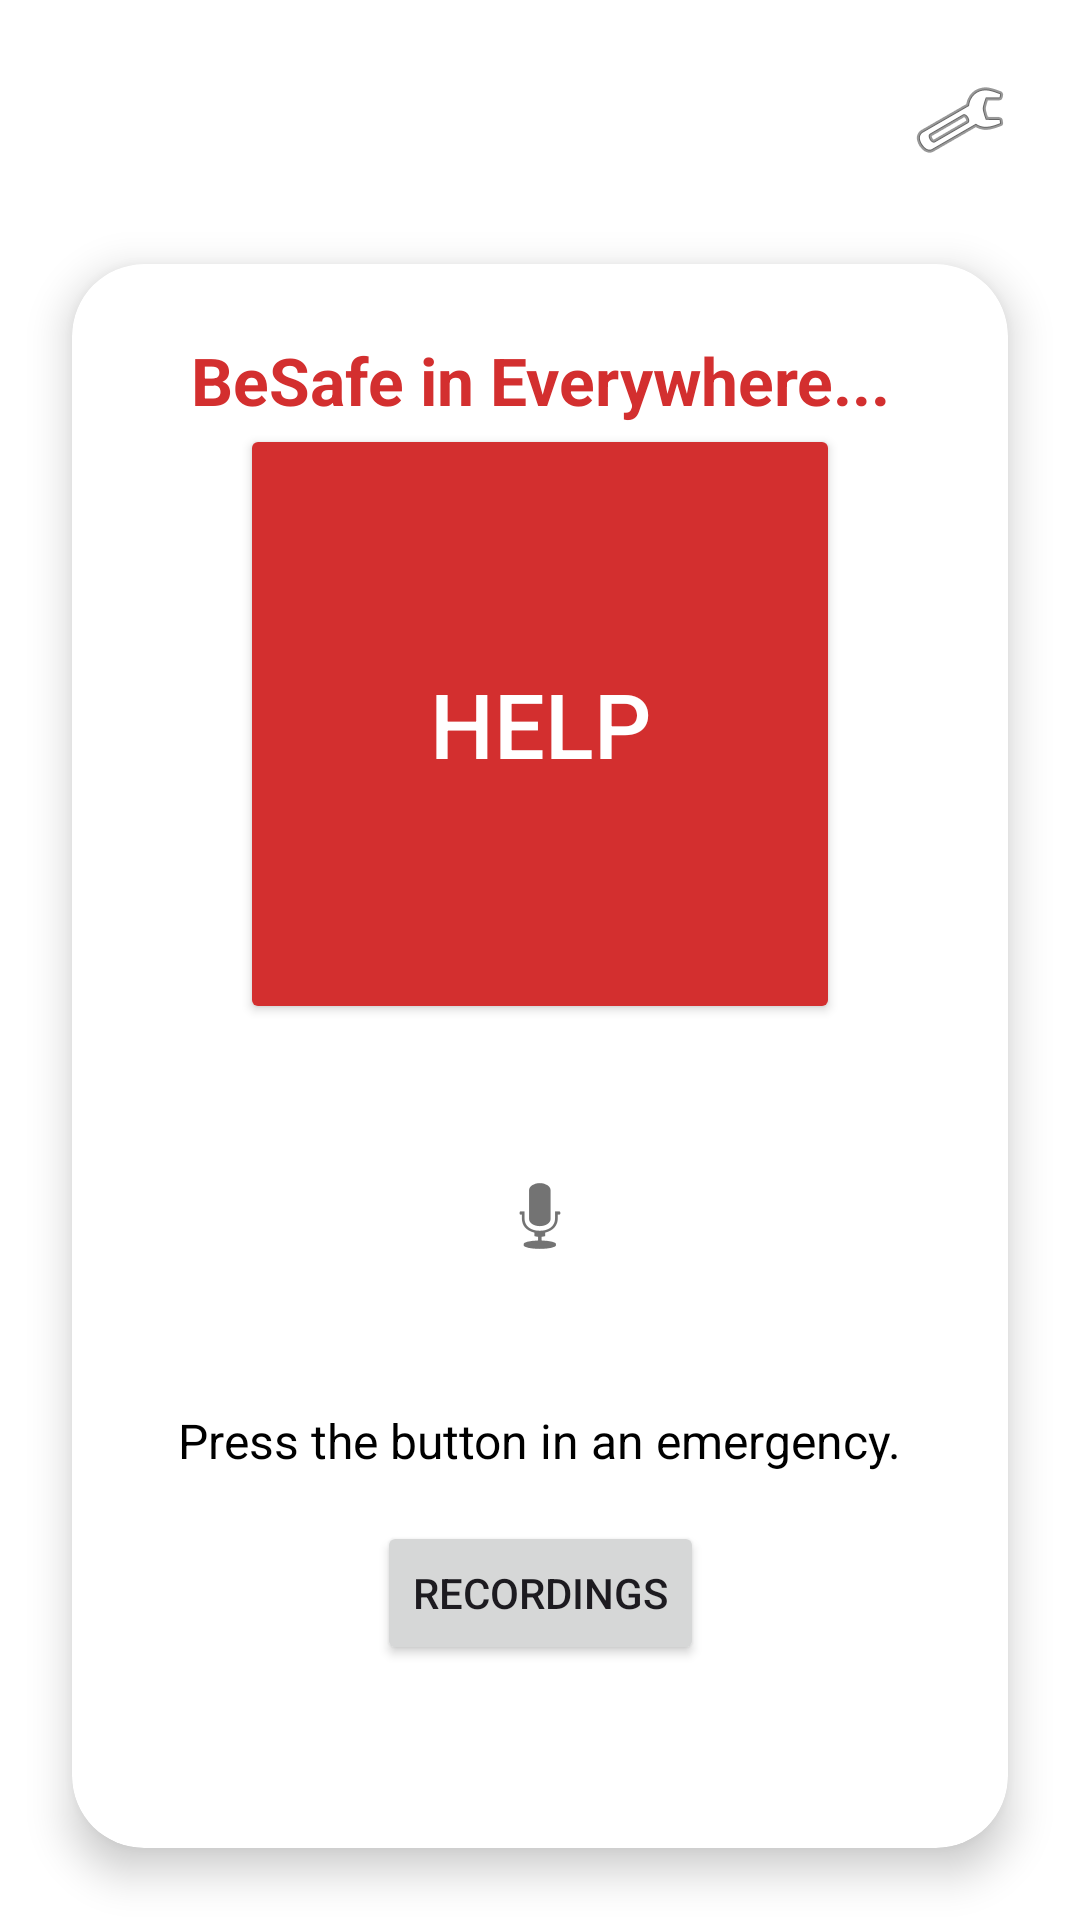

Named icons in this screenshot (1080px×1920px) and their bounding boxes, (left=x1, top=y1, right=x2, bottom=y2):
Settings: (left=917, top=87, right=1003, bottom=153)
